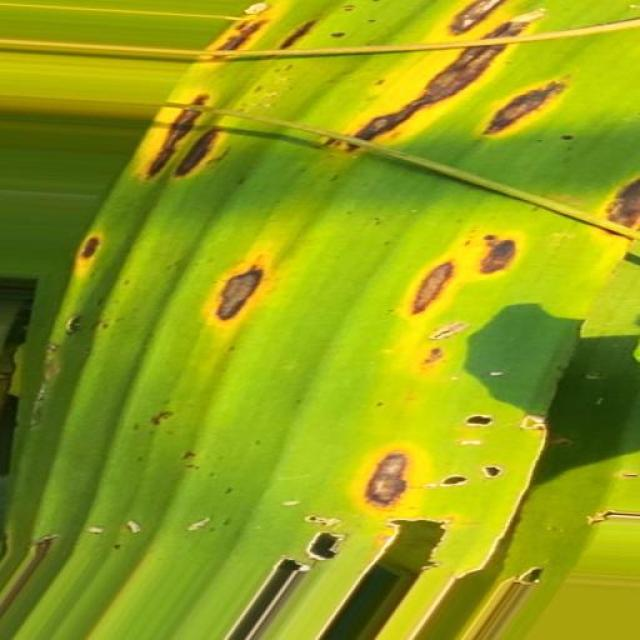Early_rust: (30, 0, 640, 584)
